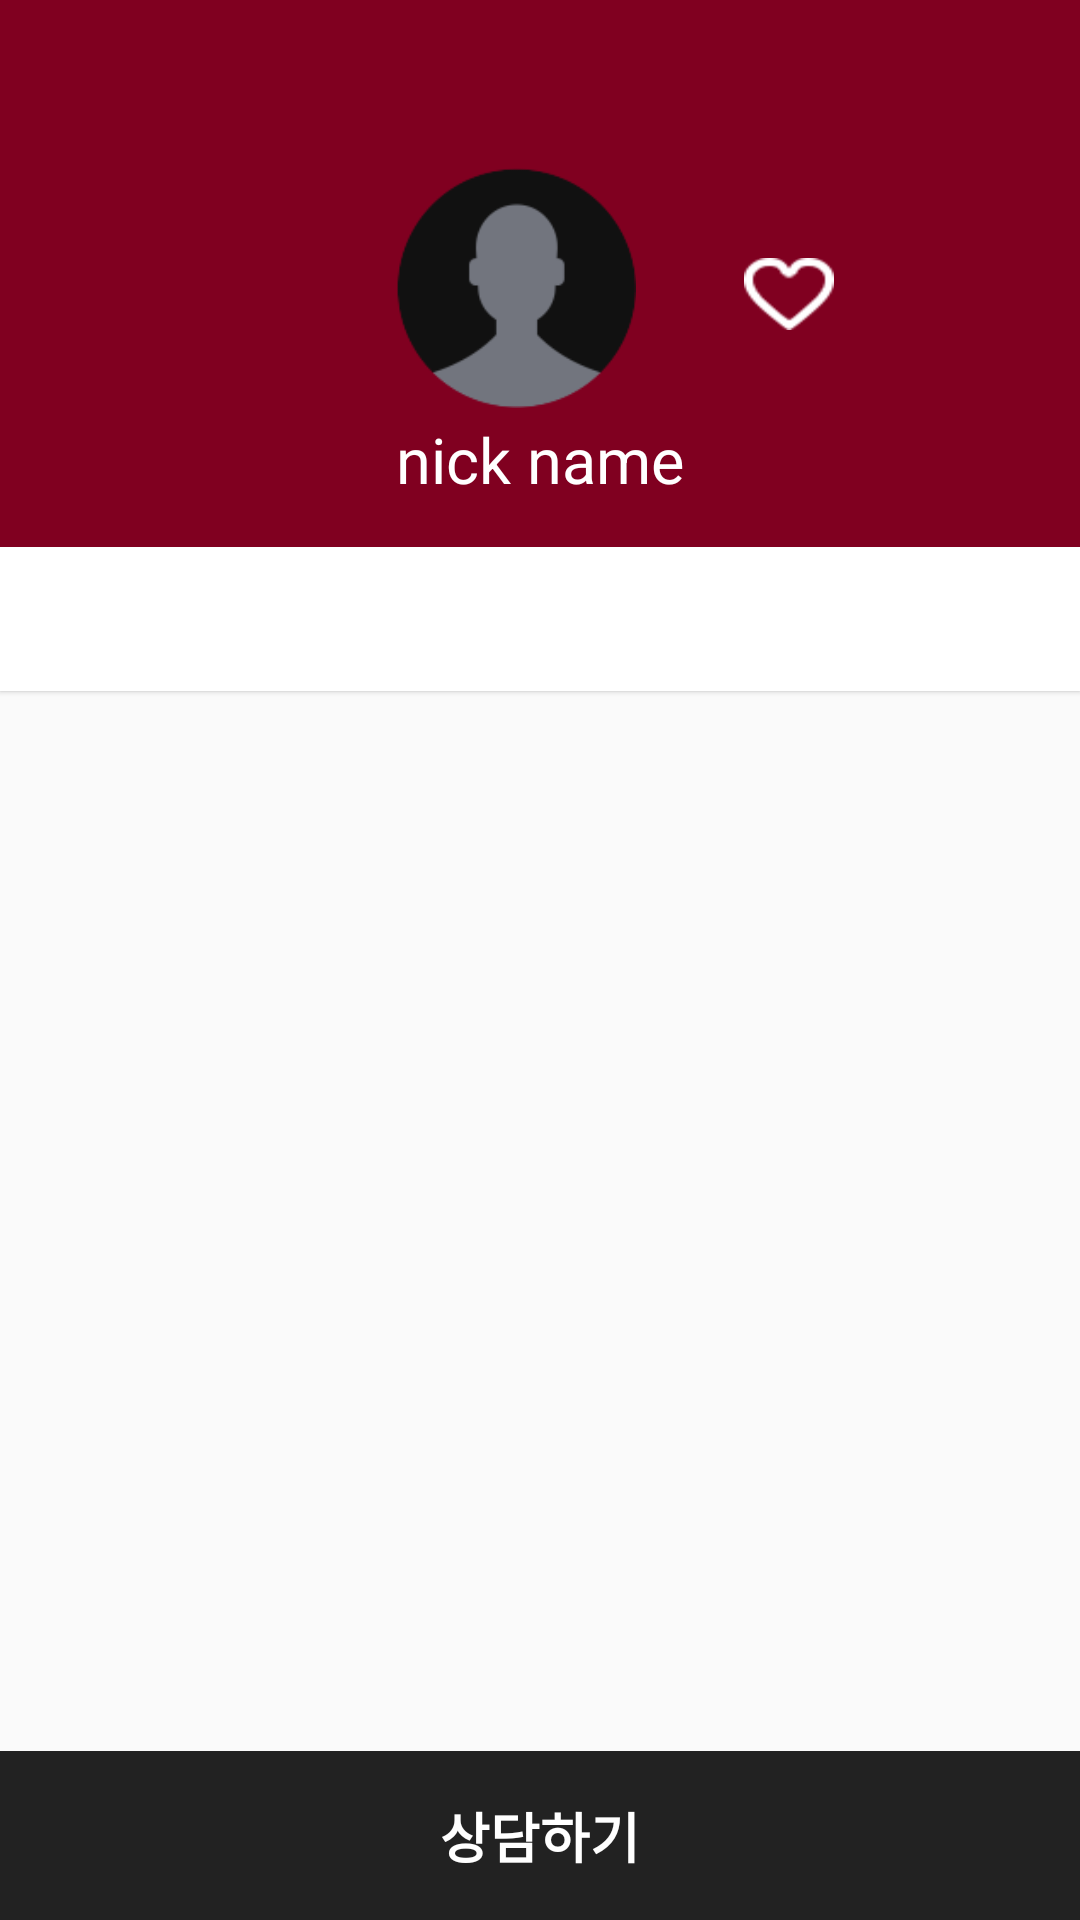

Icon click points for this 1080 x 1920 phone screenshot, format (x=x, y=y):
heart off: (x=789, y=294)
